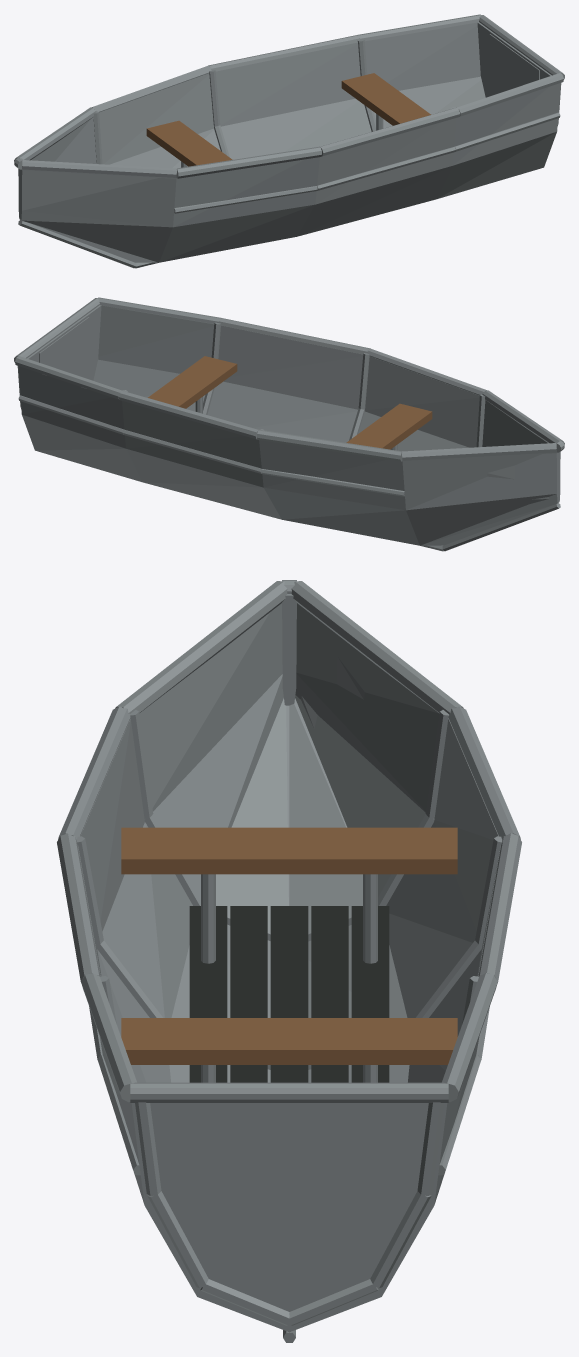
File: boatHull-lv2.glb
The picture shows the model from 3 angles, top to bottom: view 1: azimuth 30°, elevation 25°; view 2: azimuth 150°, elevation 25°; view 3: azimuth 270°, elevation 25°; orthographic projection. The views are drawn at different scales.
Visible parts, largest first — view 1: outer-hull-strake-6, inner-hull-strake-1, outer-hull-strake-5, inner-hull-strake-2, continuous-starboard-gunwale (×4), transverse-timber-bench (×2), continuous-port-gunwale (×4), longitudinal-side-reinforcement (×3), reinforced-engine-transom-plate, flat-transom, transom-rim, rising-bow-keel (+4 smaller); view 2: outer-hull-strake-1, inner-hull-strake-6, outer-hull-strake-2, inner-hull-strake-5, continuous-port-gunwale (×4), transverse-timber-bench (×2), continuous-starboard-gunwale (×4), longitudinal-side-reinforcement (×3), reinforced-engine-transom-plate, flat-transom, transom-rim, rising-bow-keel (+4 smaller); view 3: transverse-timber-bench (×2), flat-transom, inner-hull-strake-6, inner-hull-strake-5, inner-hull-strake-2, inner-hull-strake-1, reinforced-engine-transom-plate, continuous-port-gunwale (×4), continuous-starboard-gunwale (×4), interior-frame-4, inner-hull-strake-3, inner-hull-strake-4 (+12 smaller).
Part boxes in pixels (x1=…): outer-hull-strake-6: x1=22, y1=83, x2=560, y2=227; inner-hull-strake-1: x1=31, y1=22, x2=480, y2=164; outer-hull-strake-5: x1=21, y1=132, x2=556, y2=262; inner-hull-strake-2: x1=110, y1=76, x2=485, y2=168; continuous-starboard-gunwale (×4): x1=22, y1=73, x2=563, y2=178; transverse-timber-bench (×2): x1=146, y1=73, x2=430, y2=166; continuous-port-gunwale (×4): x1=14, y1=14, x2=481, y2=161; longitudinal-side-reinforcement (×3): x1=174, y1=112, x2=560, y2=213; reinforced-engine-transom-plate: x1=489, y1=34, x2=539, y2=91; flat-transom: x1=477, y1=22, x2=551, y2=97; transom-rim: x1=479, y1=15, x2=564, y2=79; rising-bow-keel: x1=18, y1=220, x2=136, y2=268; outer-hull-strake-1: x1=18, y1=366, x2=556, y2=510; inner-hull-strake-6: x1=98, y1=305, x2=547, y2=447; outer-hull-strake-2: x1=22, y1=415, x2=557, y2=545; inner-hull-strake-5: x1=93, y1=359, x2=468, y2=451; continuous-port-gunwale (×4): x1=15, y1=356, x2=556, y2=461; transverse-timber-bench (×2): x1=148, y1=356, x2=432, y2=449; continuous-starboard-gunwale (×4): x1=97, y1=297, x2=564, y2=444; longitudinal-side-reinforcement (×3): x1=18, y1=395, x2=404, y2=496; reinforced-engine-transom-plate: x1=39, y1=317, x2=89, y2=374; flat-transom: x1=27, y1=305, x2=101, y2=380; transom-rim: x1=14, y1=298, x2=99, y2=362; rising-bow-keel: x1=442, y1=503, x2=560, y2=551; transverse-timber-bench (×2): x1=121, y1=827, x2=457, y2=1064; flat-transom: x1=131, y1=1103, x2=447, y2=1332; inner-hull-strake-6: x1=80, y1=603, x2=282, y2=976; inner-hull-strake-5: x1=97, y1=674, x2=283, y2=1082; inner-hull-strake-2: x1=295, y1=674, x2=481, y2=1082; inner-hull-strake-1: x1=296, y1=603, x2=499, y2=976; reinforced-engine-transom-plate: x1=190, y1=1103, x2=388, y2=1192; continuous-port-gunwale (×4): x1=291, y1=581, x2=521, y2=1102; continuous-starboard-gunwale (×4): x1=57, y1=581, x2=287, y2=1102; interior-frame-4: x1=135, y1=1102, x2=443, y2=1325; inner-hull-strake-3: x1=289, y1=698, x2=409, y2=1082; inner-hull-strake-4: x1=169, y1=698, x2=289, y2=1082.
Size of the model in its own units: 2 by 0.5135 by 0.7917.
